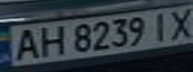2: (90, 18, 115, 52)
3: (109, 16, 133, 50)
8: (69, 20, 93, 54)
9: (124, 13, 151, 46)
A: (9, 26, 45, 61)
H: (33, 24, 69, 57)
I: (145, 10, 175, 42)
X: (163, 6, 193, 40)
